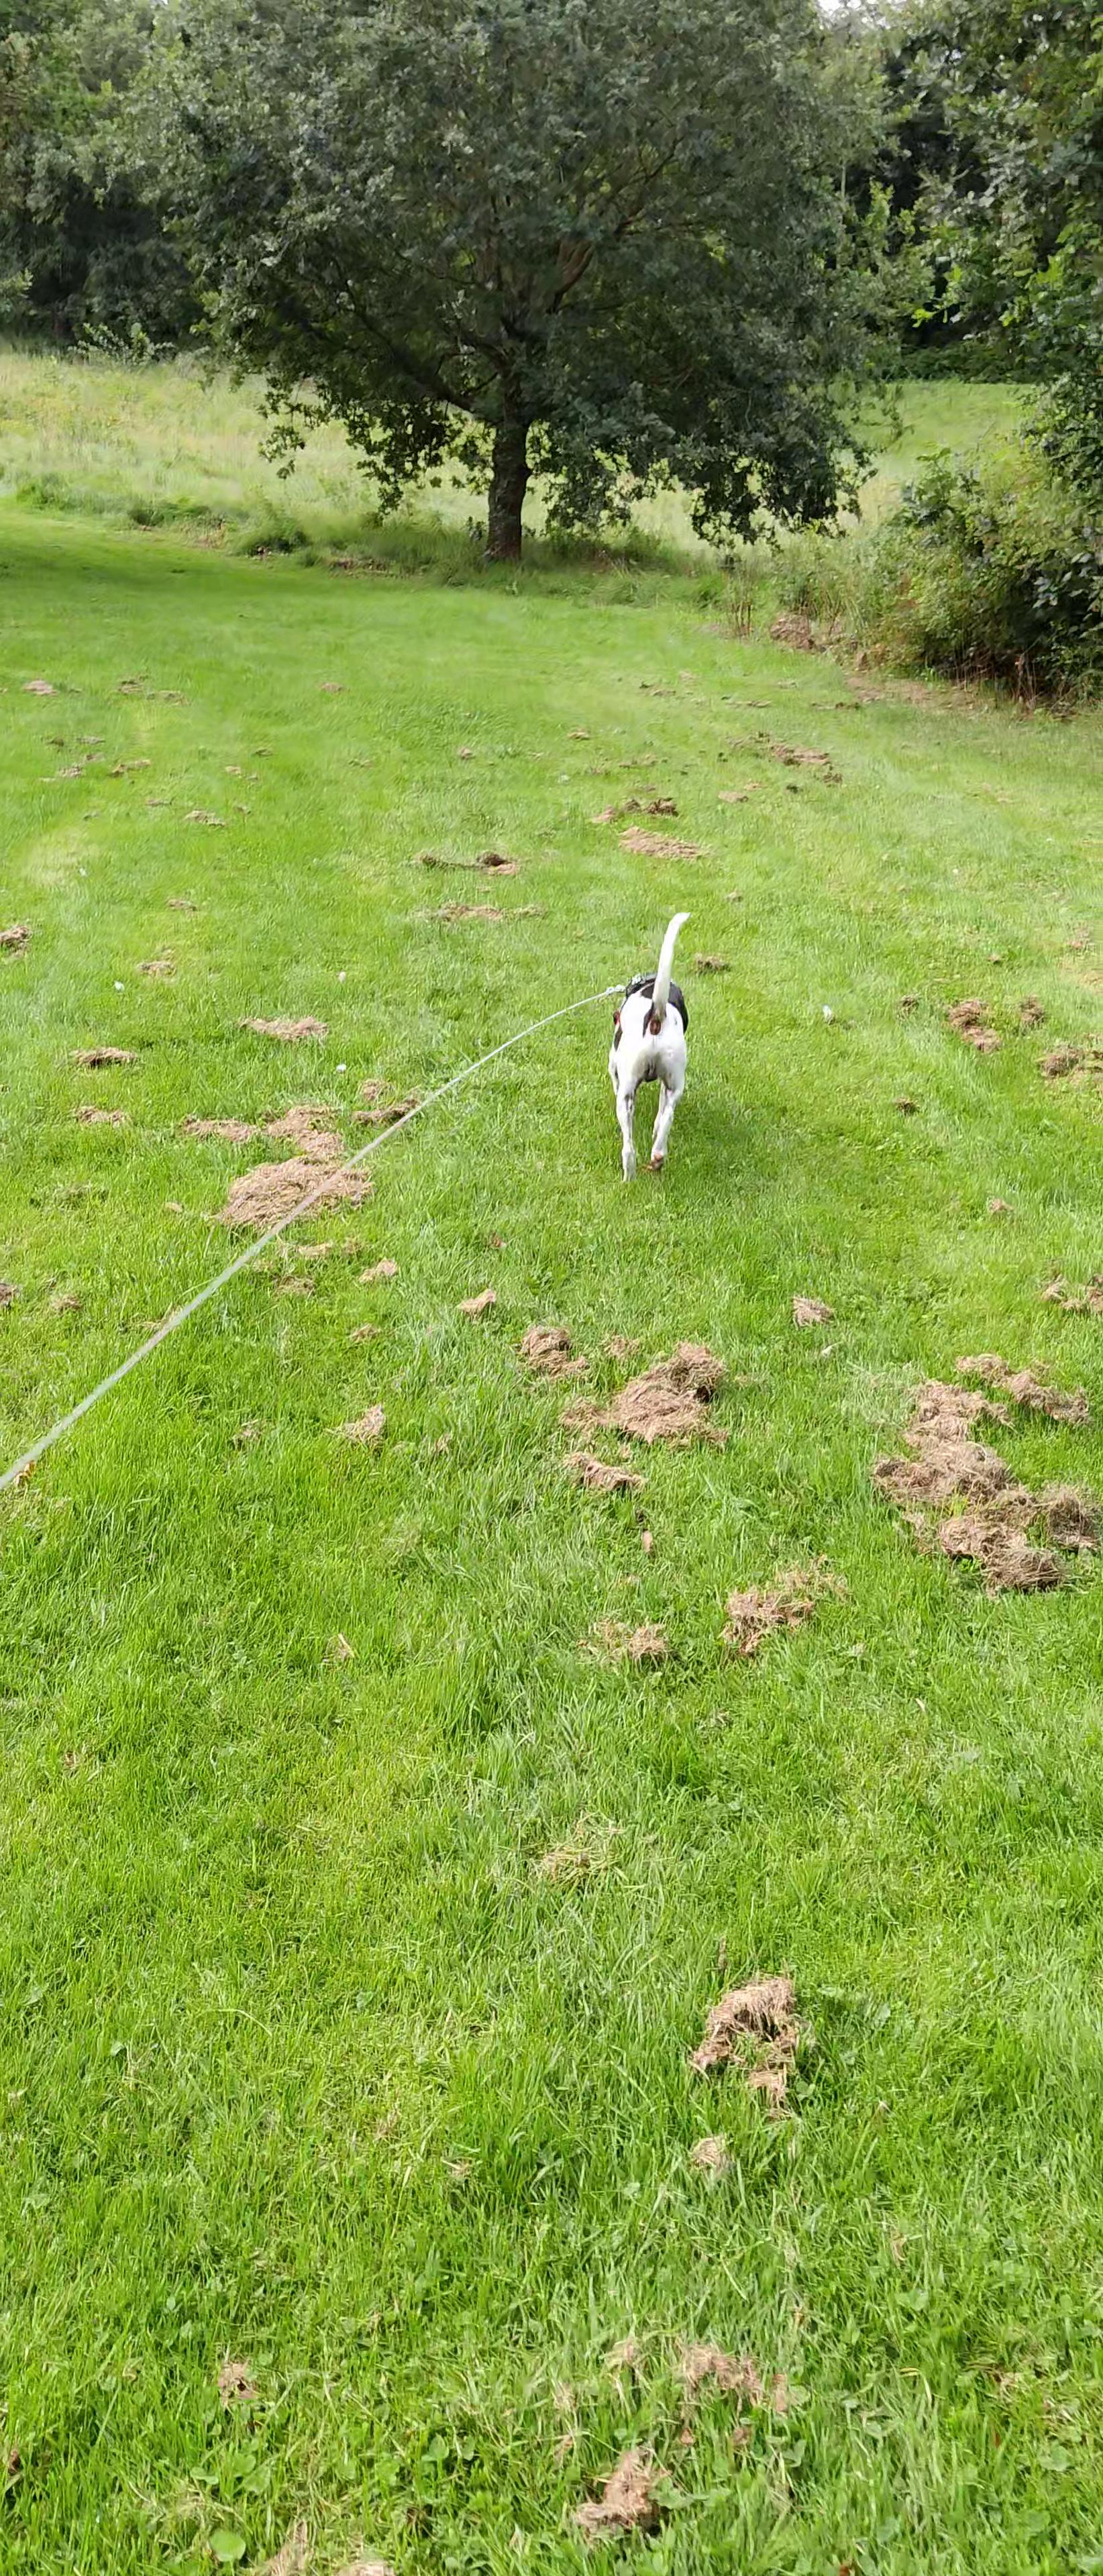Dog: (582, 899, 717, 1198)
